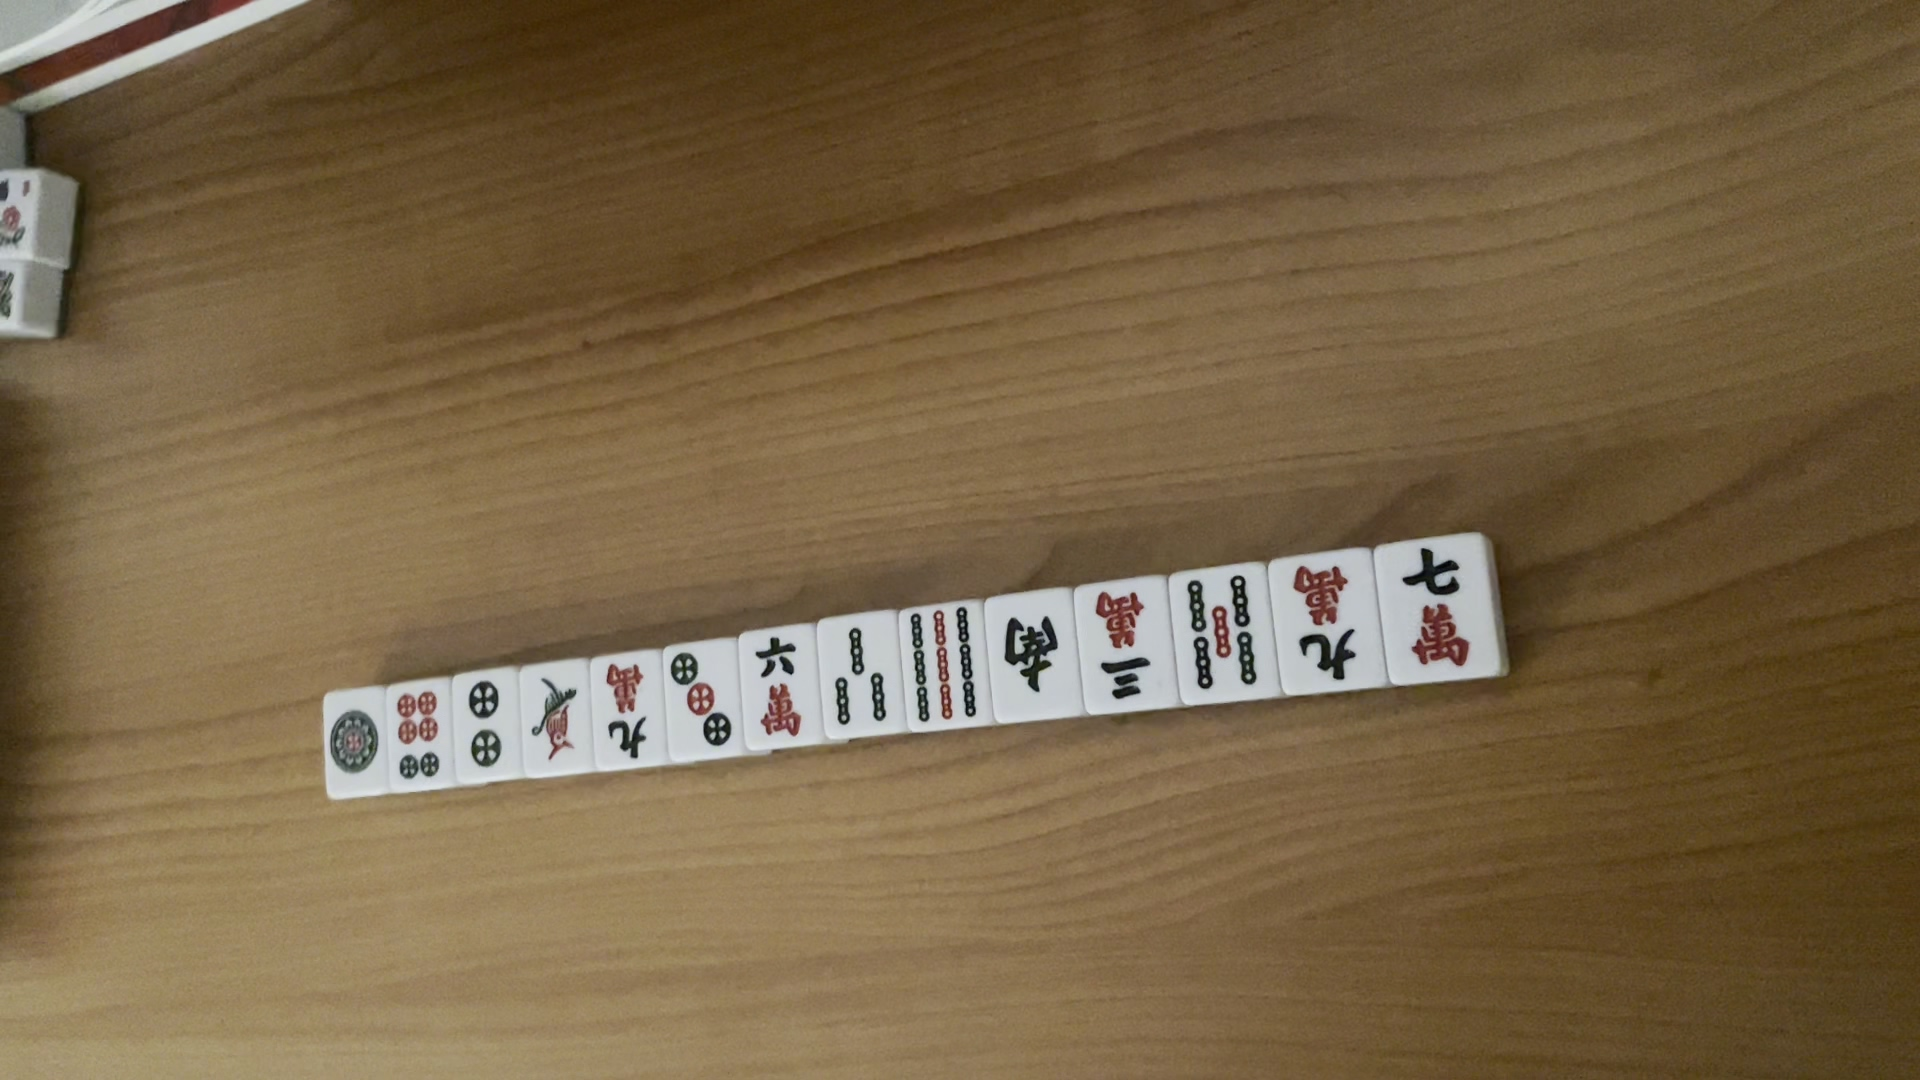b-3: (829, 622, 890, 725)
b-5: (1180, 572, 1265, 691)
b-9: (907, 608, 981, 727)
c-3: (1087, 586, 1164, 706)
c-6: (754, 633, 804, 735)
c-7: (1399, 543, 1477, 664)
c-9: (1289, 562, 1368, 682), (597, 657, 655, 762)
d-1: (326, 704, 381, 785)
d-2: (528, 673, 584, 762), (462, 676, 500, 772)
d-3: (665, 648, 738, 754)
d-6: (391, 691, 441, 782)
honors-south: (997, 615, 1067, 696)
